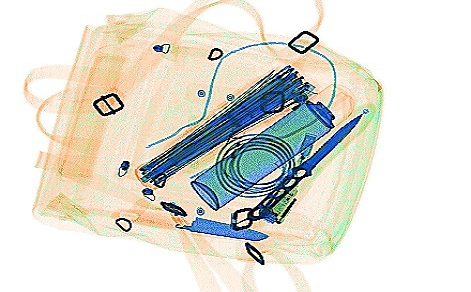knife: (244, 110, 364, 223), (107, 206, 271, 241)
pressure: (187, 79, 358, 213)
